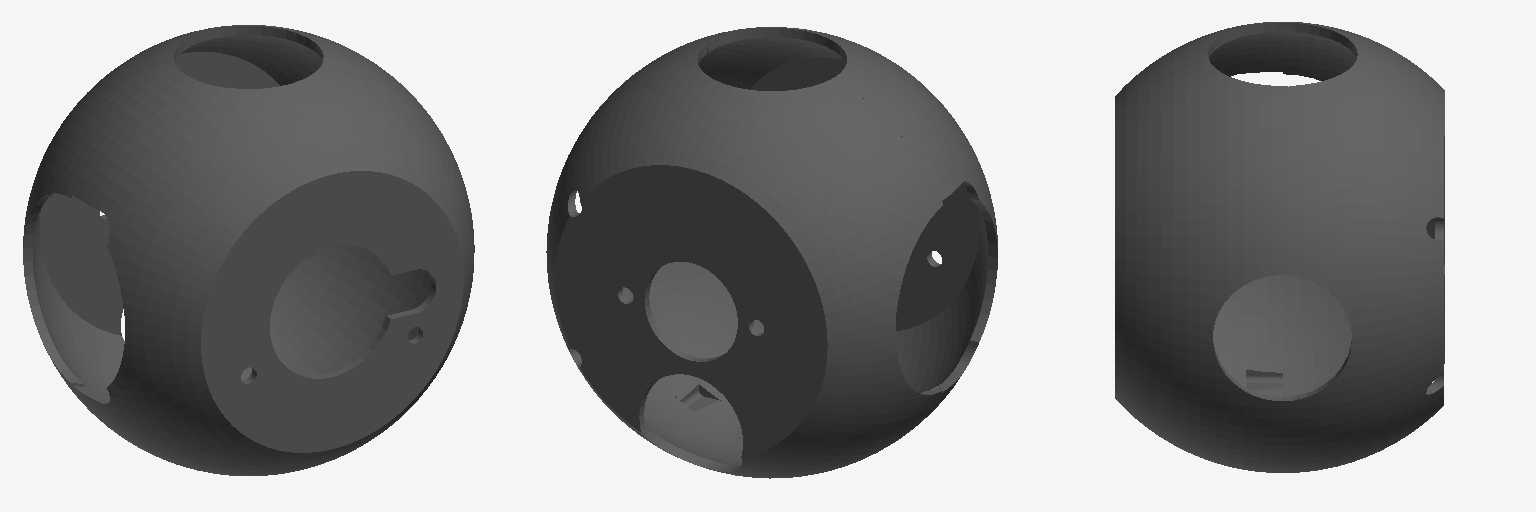
File: humanoidHeadLeftEye.obj
The picture shows the model from 3 angles: view 1: azimuth 30°, elevation 25°; view 2: azimuth 150°, elevation 25°; view 3: azimuth 270°, elevation 25°; orthographic projection.
Visible parts, largest first — view 1: stl_object; view 2: stl_object; view 3: stl_object.
Part boxes in pixels (bbox=[...]): stl_object: bbox=[23, 25, 474, 475]; stl_object: bbox=[546, 27, 997, 478]; stl_object: bbox=[1115, 22, 1444, 472].
Bounding box in the file's own units: 2.17 × 2.28 × 1.72.